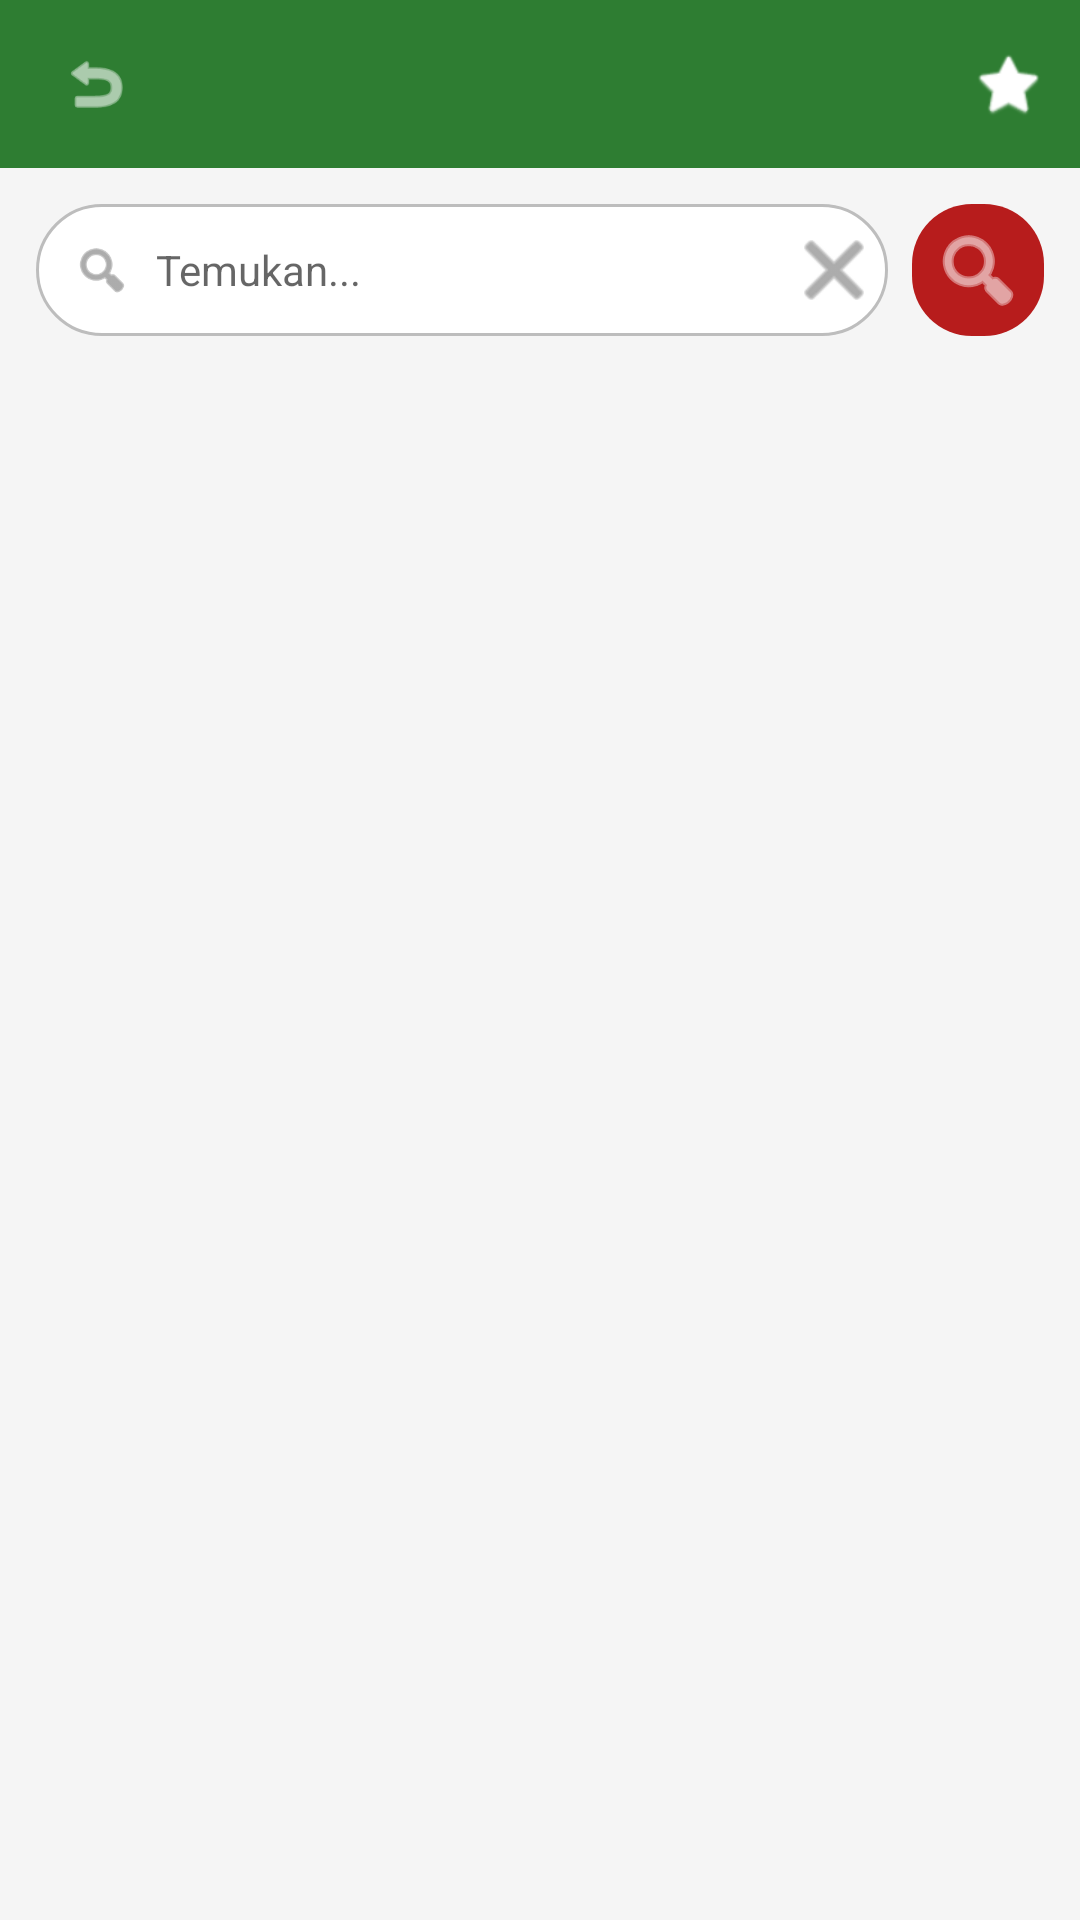

Where icons sit on this 1080px x 1920px app screen, as (x1, y1, x2, y2):
close clear cancel: (804, 240, 864, 300)
revert: (71, 61, 123, 108)
search: (912, 204, 1044, 336), (80, 248, 124, 292)
